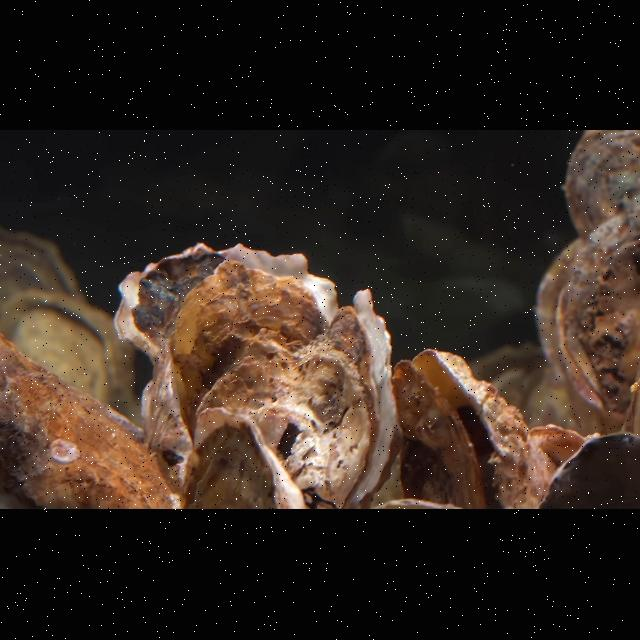Oyster-Closed: (198, 327, 374, 511), (167, 257, 331, 451), (534, 213, 640, 415), (0, 226, 84, 334), (564, 130, 640, 240), (539, 429, 640, 511)
Oyster-Open: (116, 242, 344, 496), (0, 327, 190, 510), (389, 347, 551, 511), (317, 285, 403, 511), (0, 288, 138, 416), (174, 400, 310, 510)
